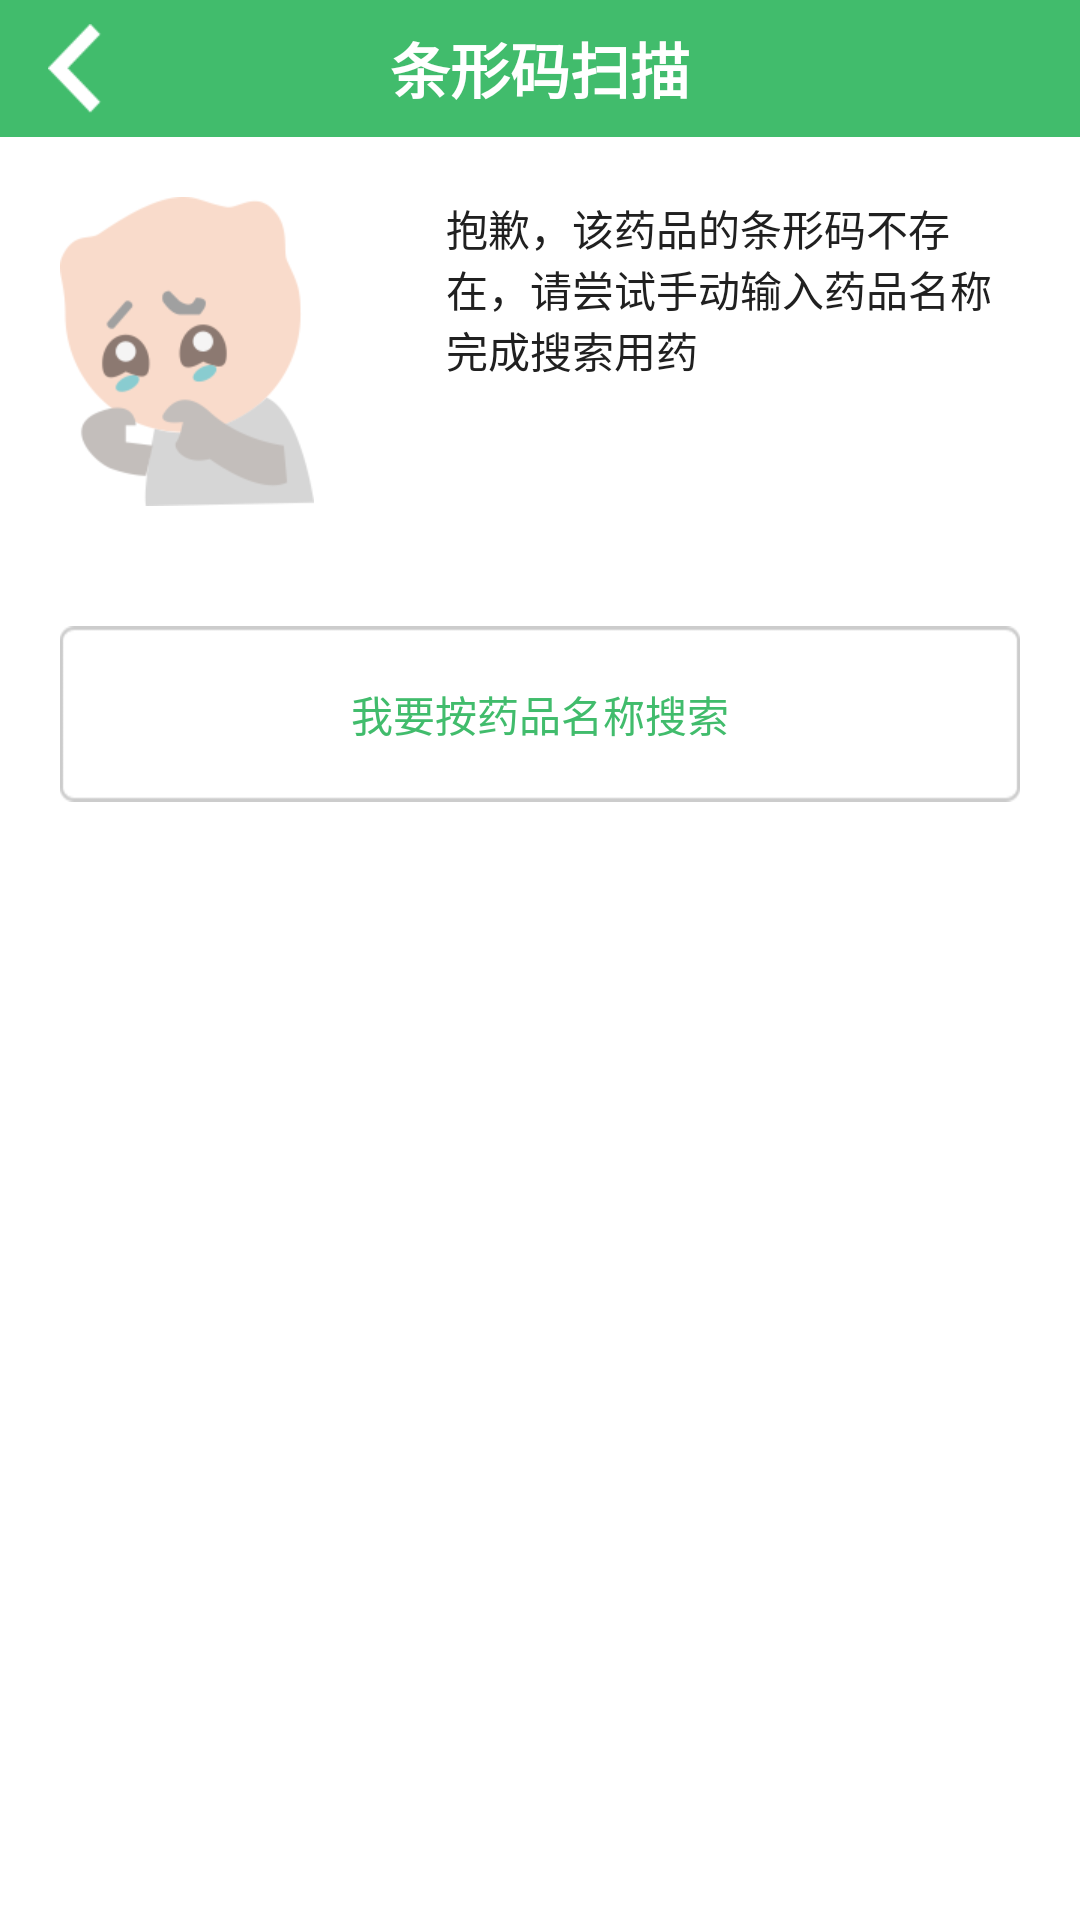

Icon click points for this 1080w x 1920h phone screenshot, format [x,y]:
seacher medicine fail: [187,351]
